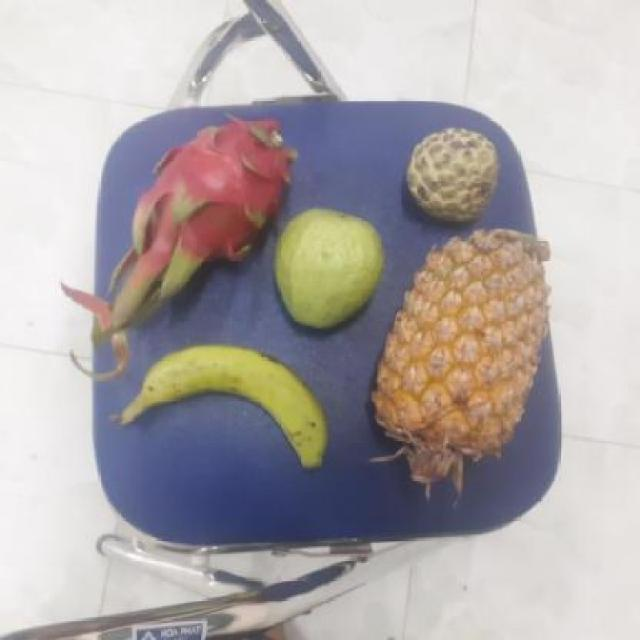banana: (113, 348, 332, 462)
dragon fruit: (136, 118, 290, 270)
guava: (267, 208, 382, 327)
pineapple: (371, 230, 544, 458)
sugar apple: (402, 128, 498, 223)
